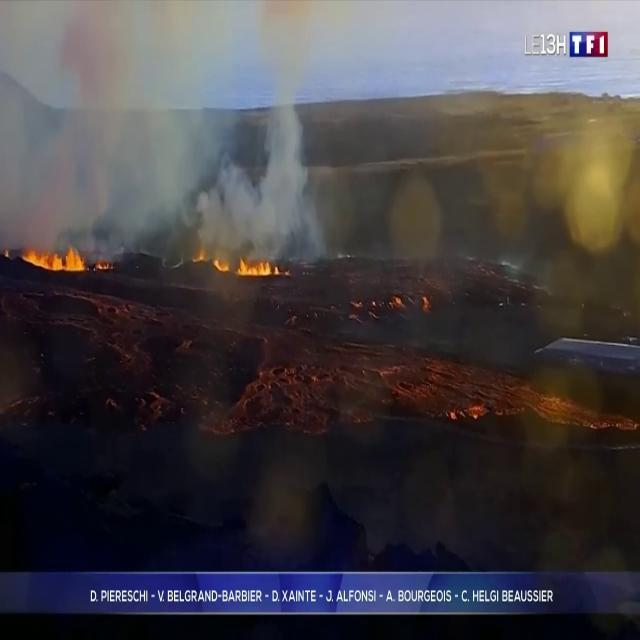Fire: (13, 232, 98, 279), (204, 245, 285, 282)
Smoke: (0, 0, 191, 246), (190, 33, 330, 263)
